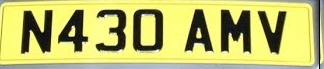character: (219, 7, 250, 53), (21, 9, 52, 54), (132, 7, 163, 52), (184, 7, 214, 53), (95, 8, 126, 52), (256, 9, 287, 53), (57, 9, 88, 52)
